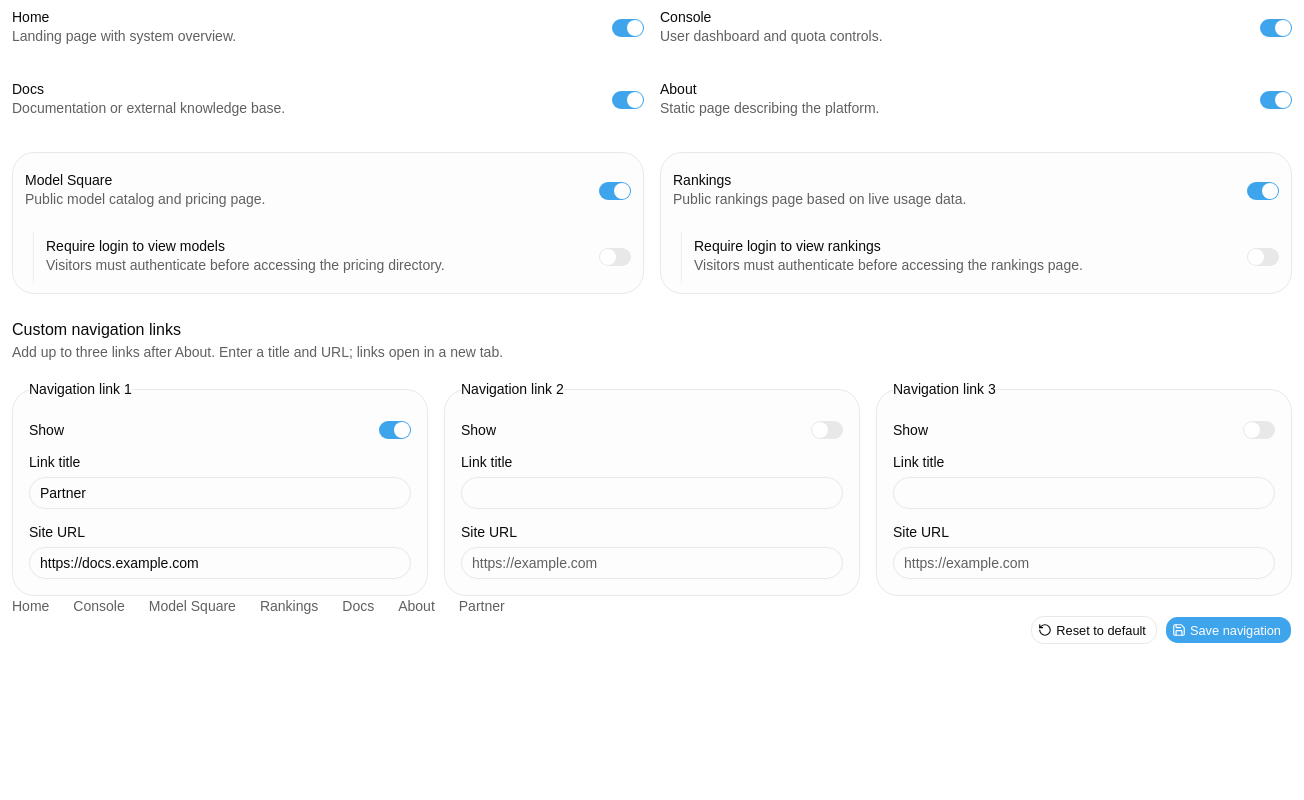
Test: header sponsor settings › turning off a site keeps its configuration and reset clears all three slots
The image size is (1304, 800).
Click the switch named "Show" below "Navigation link 1" at (395,430), box [379,421,411,439]
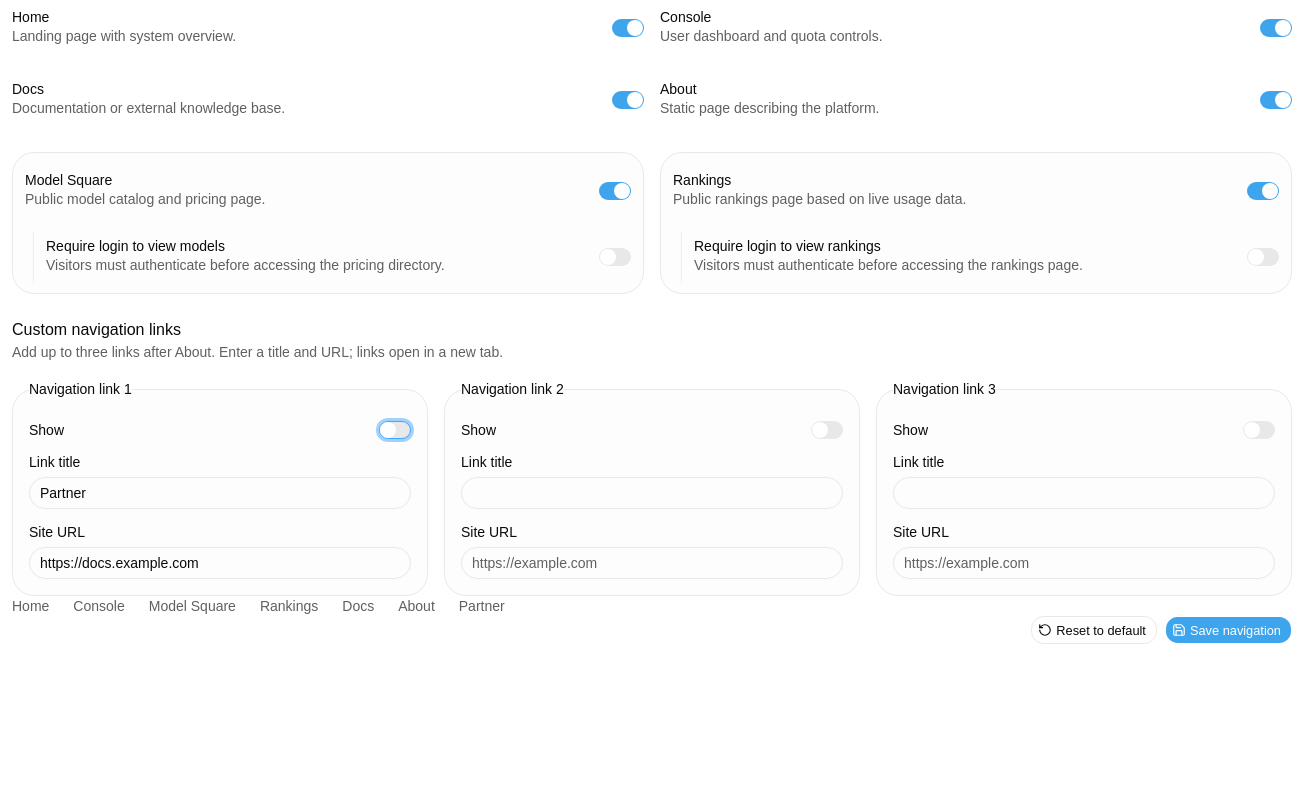
Expected: the field labelled "Link title" below "Navigation link 1" holds "Partner", [29,477,411,509]
Click the button "Save navigation" at (1228,630), box [1165,616,1292,644]
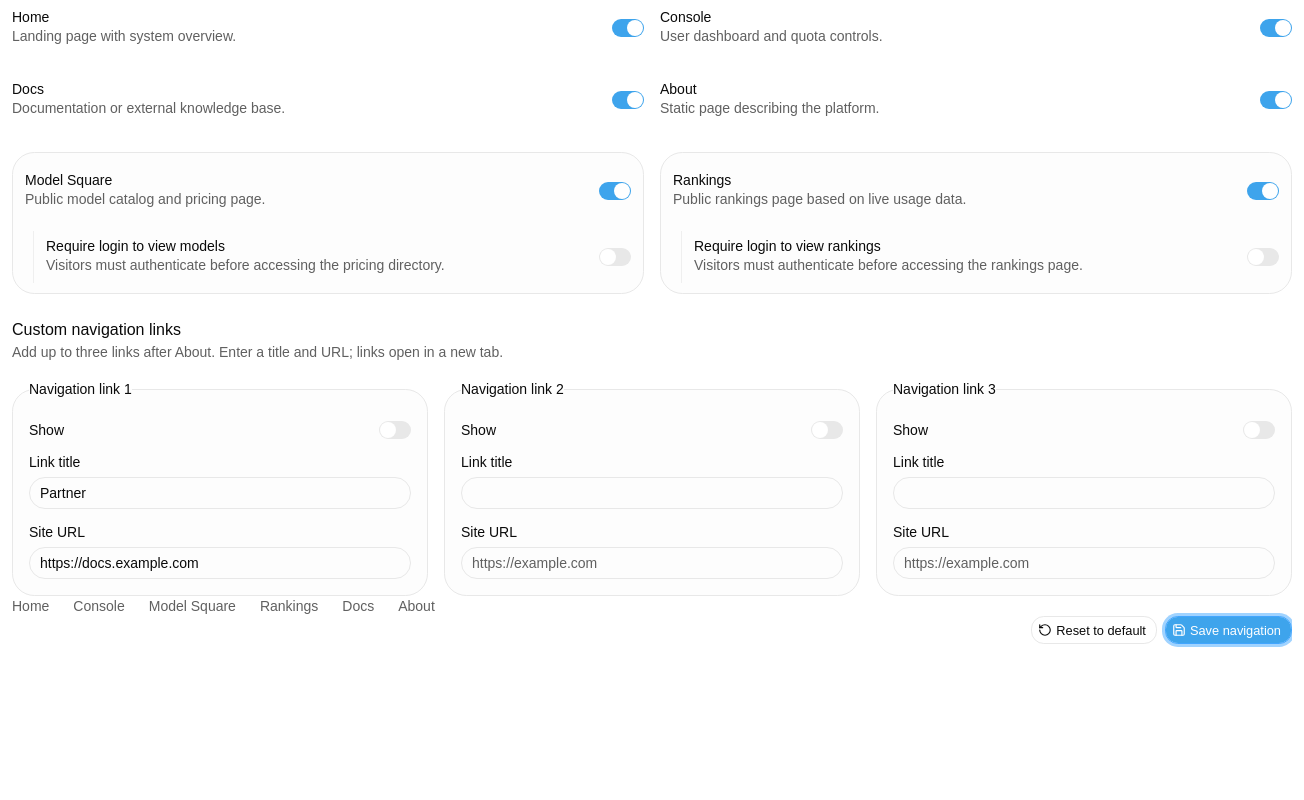
Click the button "Reset to default" at (1094,630), box [1031,616,1157,644]
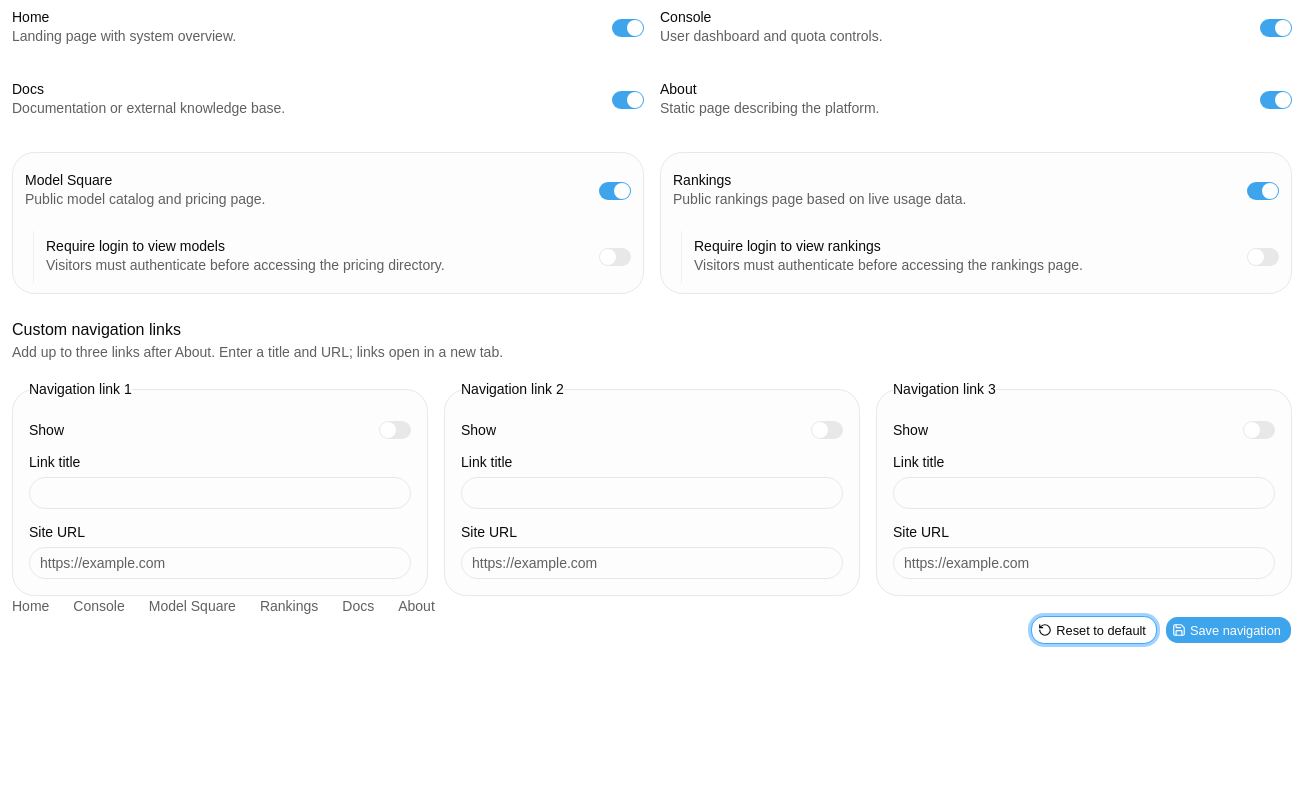
Expected: the field labelled "Link title" below "Navigation link 1" is empty, [29,477,411,509]
Expected: the field labelled "Site URL" below "Navigation link 1" is empty, [29,547,411,579]
